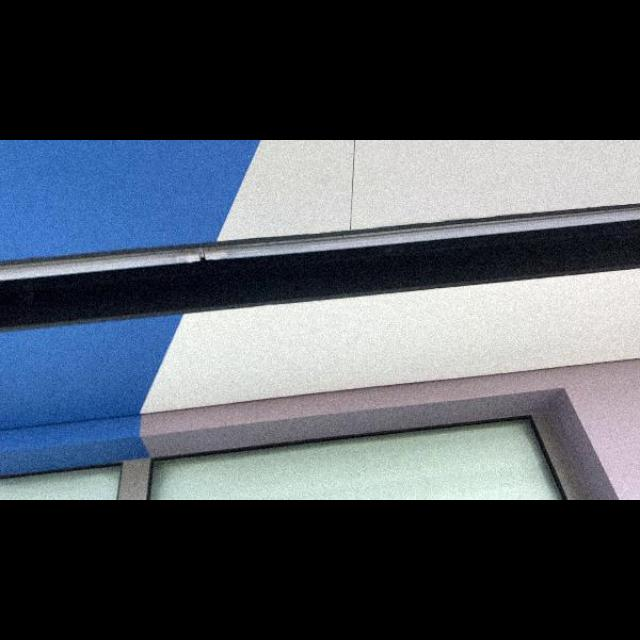Straight-Tube-Fluorescent-Lamp: (2, 194, 640, 296)
